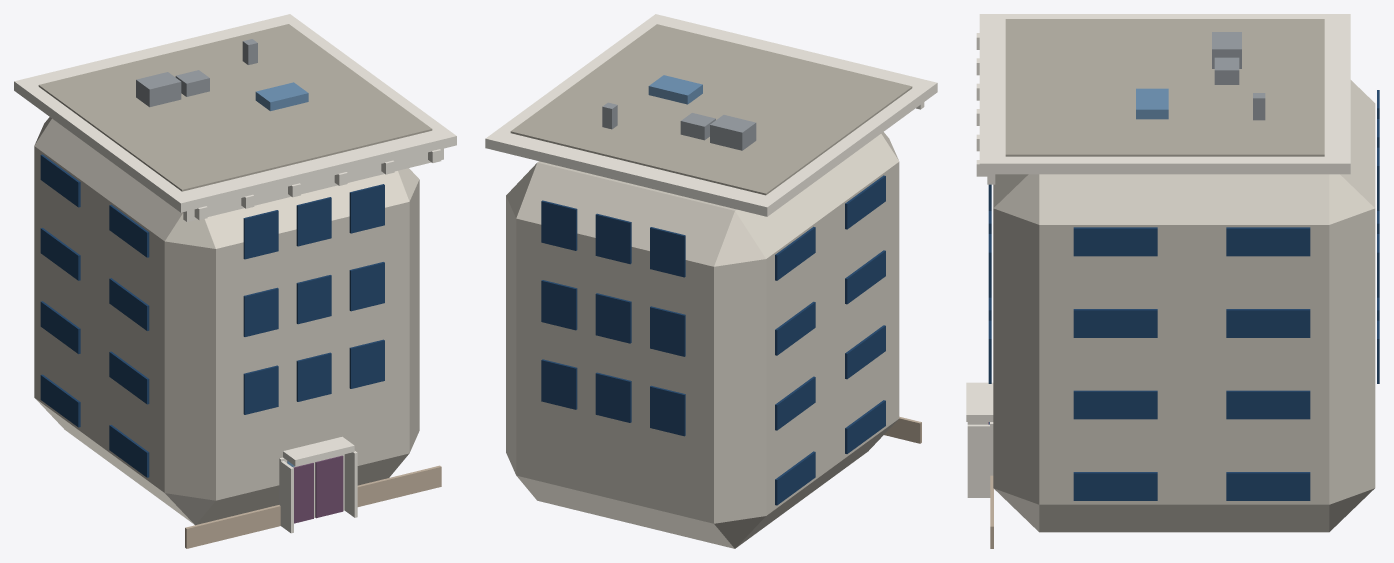
Rendered from apt_w12_f4_punched.glb.
3 renders of one model, left to right at view 1: azimuth 30°, elevation 25°; view 2: azimuth 150°, elevation 25°; view 3: azimuth 270°, elevation 25°, orthographic. The views are drawn at different scales.
Parts seen in each view (by area): view 1: walls, roofslab, corn, bsmt, frieze, door.001, win.006, win.003, win.007, win.005, win.008, win (+18 smaller); view 2: walls, roofslab, corn, win.010, win.014, win.016, win.011, win.017, win.013, win.009, win.012, win.015 (+12 smaller); view 3: walls, roofslab, corn, sb.013, sb.015, sb.005, sb.007, sb.001, sb.003, sb.009, sb.011, cpost.001 (+4 smaller).
Part boxes in pixels (bbox=[...]): walls: bbox=[34, 117, 419, 525]; roofslab: bbox=[38, 24, 432, 191]; corn: bbox=[14, 14, 456, 212]; bsmt: bbox=[185, 465, 441, 548]; frieze: bbox=[183, 148, 443, 221]; door.001: bbox=[315, 455, 343, 518]; win.006: bbox=[243, 210, 278, 259]; win.003: bbox=[243, 287, 278, 336]; win.007: bbox=[296, 197, 331, 246]; win.005: bbox=[349, 262, 384, 311]; win.008: bbox=[349, 184, 384, 233]; win: bbox=[243, 365, 278, 414]; walls: bbox=[506, 132, 899, 548]; roofslab: bbox=[510, 24, 912, 195]; corn: bbox=[485, 14, 937, 216]; win.010: bbox=[595, 372, 631, 422]; win.014: bbox=[541, 280, 577, 330]; win.016: bbox=[595, 213, 631, 264]; win.011: bbox=[541, 359, 577, 409]; win.017: bbox=[541, 200, 577, 250]; win.013: bbox=[595, 293, 631, 343]; win.009: bbox=[650, 385, 685, 436]; win.012: bbox=[650, 306, 685, 356]; win.015: bbox=[650, 227, 685, 277]; walls: bbox=[993, 80, 1375, 532]; roofslab: bbox=[1005, 19, 1324, 156]; corn: bbox=[979, 14, 1350, 174]; sb.013: bbox=[1073, 227, 1157, 256]; sb.015: bbox=[1226, 227, 1310, 256]; sb.005: bbox=[1073, 390, 1157, 419]; sb.007: bbox=[1226, 390, 1310, 419]; sb.001: bbox=[1073, 472, 1157, 500]; sb.003: bbox=[1226, 472, 1310, 500]; sb.009: bbox=[1073, 309, 1157, 337]; sb.011: bbox=[1226, 309, 1310, 337]; cpost.001: bbox=[967, 424, 989, 497].
Size of the model in its own units: 13 by 16.8 by 15.17.
